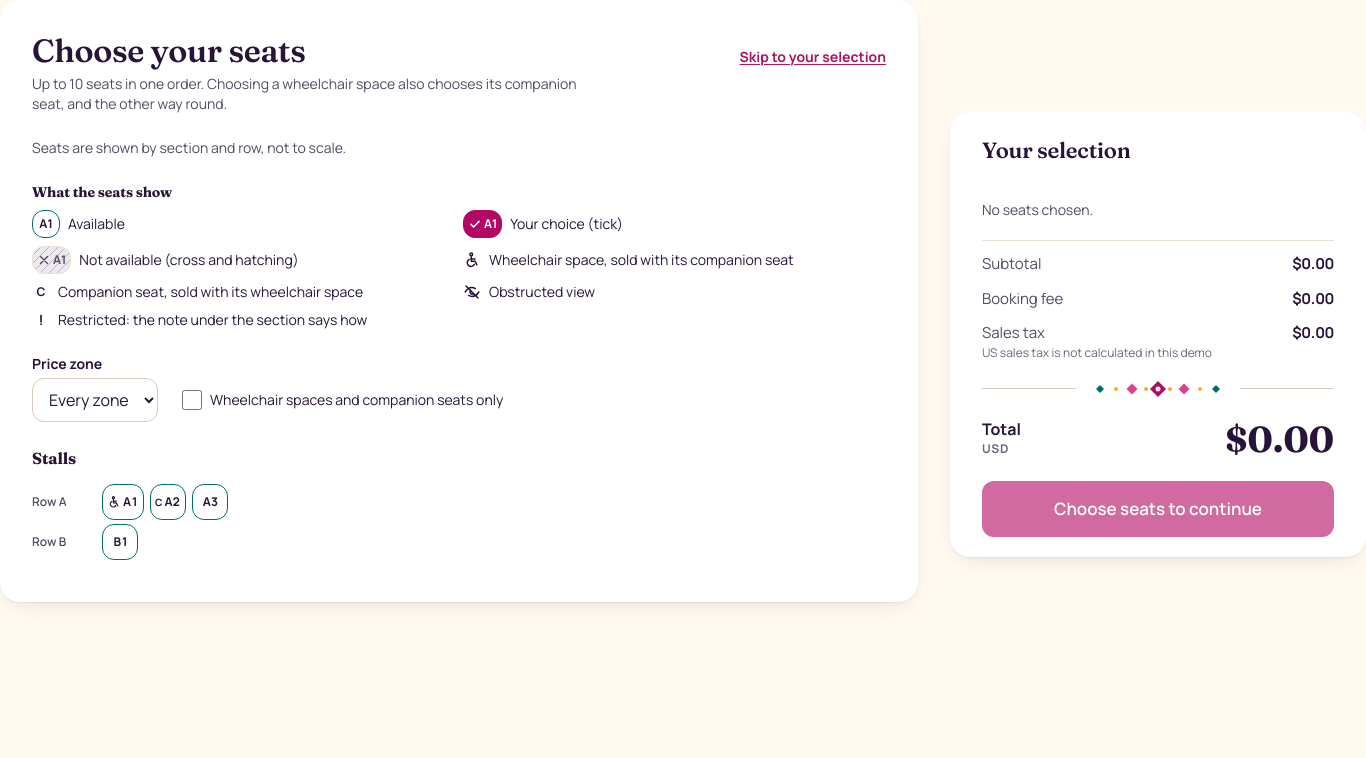
Test case: reserving, naming and paying › holds exactly the chosen seats, quotes them, and pays with one line per tier
Click the button "A1" at (123, 502), box [102,484,144,520]
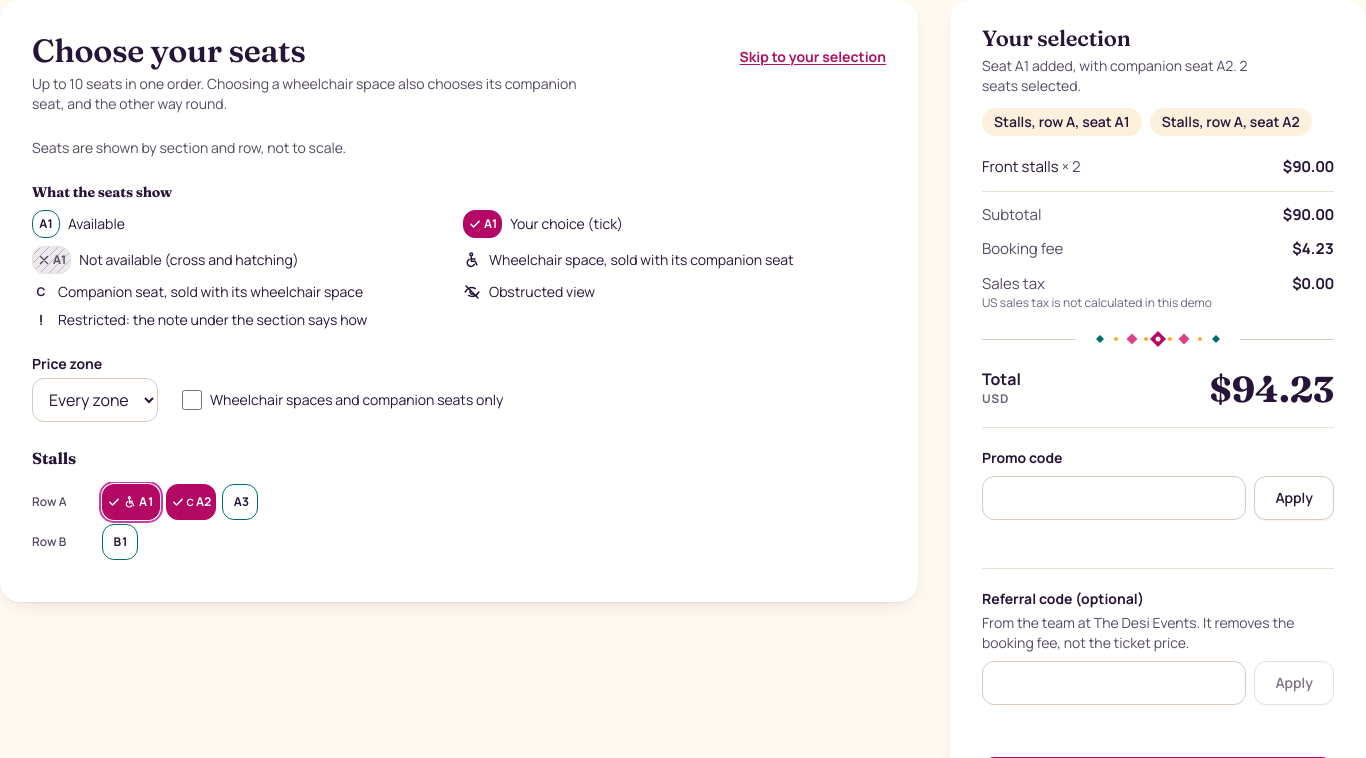
Click the button "B1" at (120, 542), box [102,524,138,560]
(page scrolled)
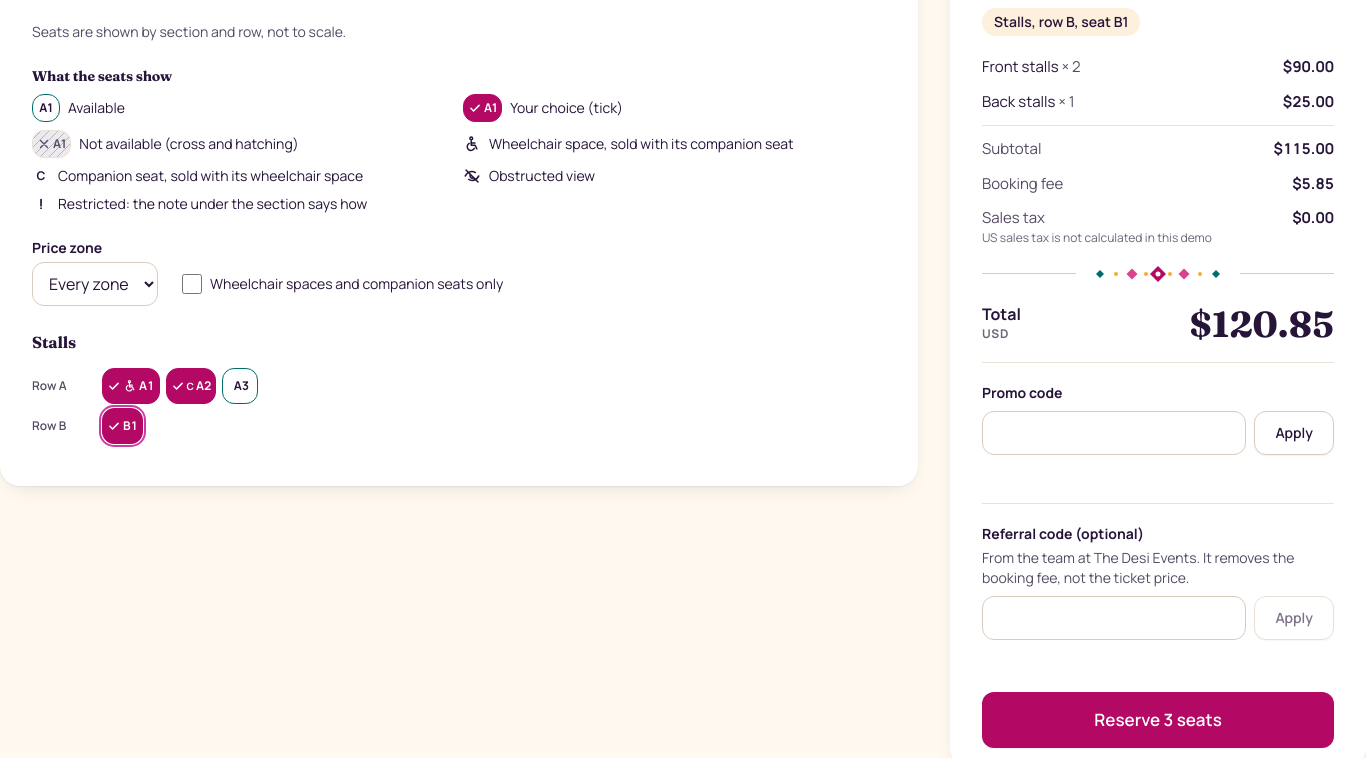
Click the button "Reserve 3 seats" at (1158, 720), box [982,692,1334,748]
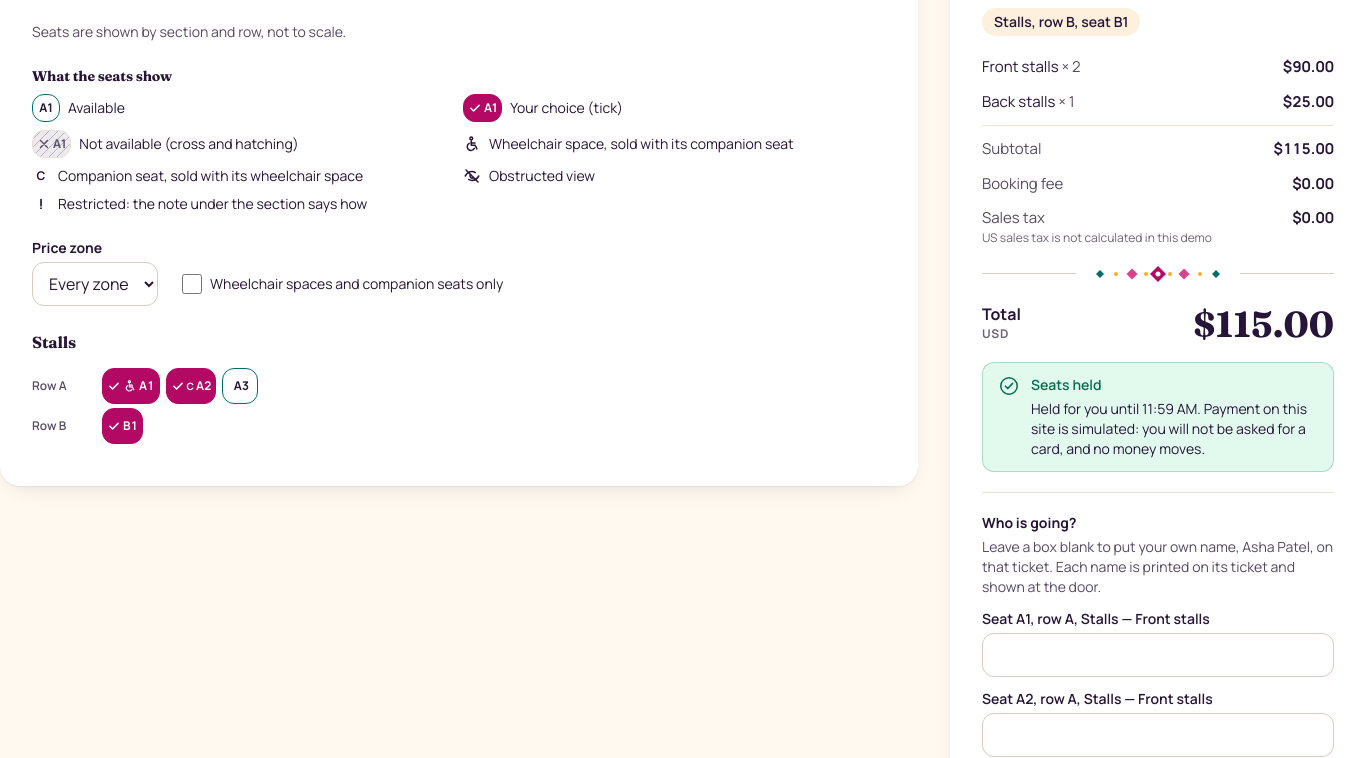
Now the text with test id "summary-total" reads "$115.00", box [1193,302,1334,346]
Type "  Ravi Shah " into the field labelled "Seat A1, row A, Stalls — Front stalls" at (1158, 654), box [982,632,1334,676]
(page scrolled)
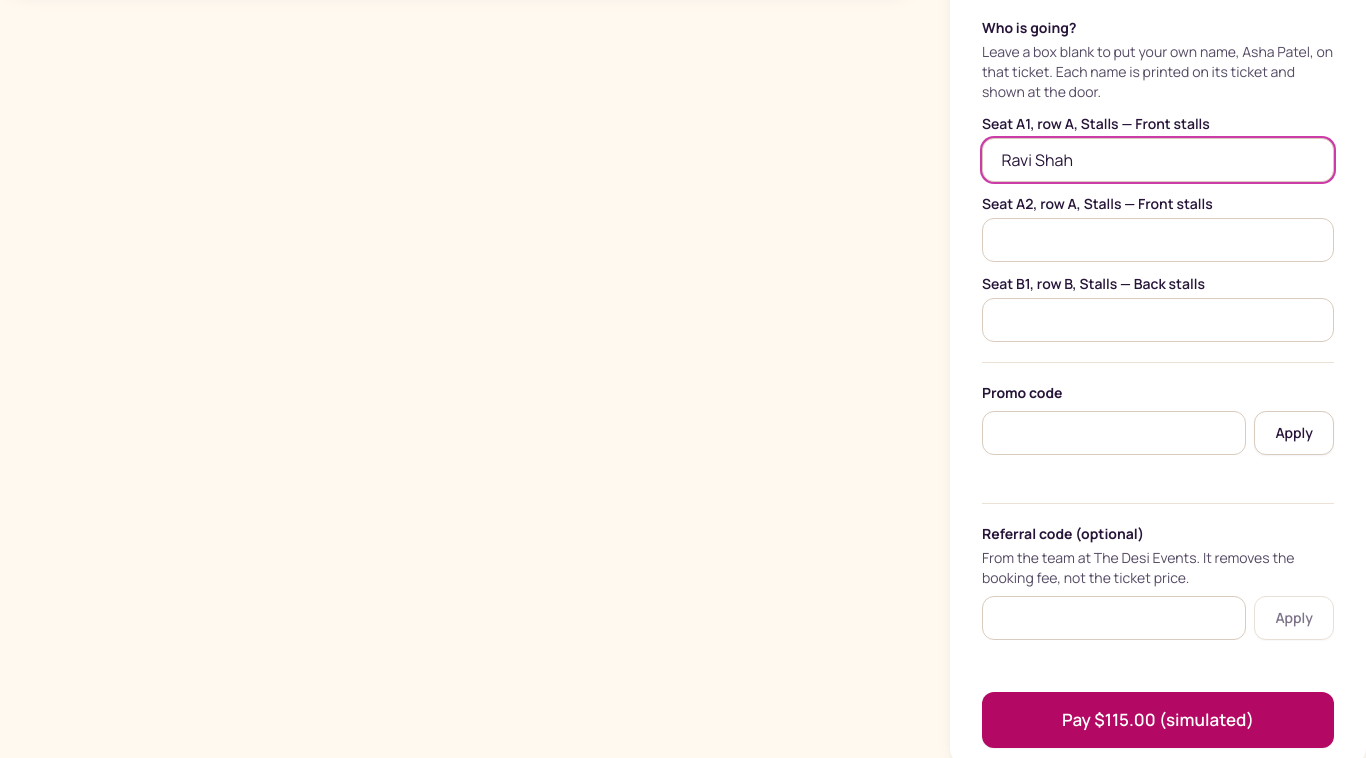
Click the button "Pay $115.00 (simulated)" at (1158, 720), box [982,692,1334,748]
(page scrolled)
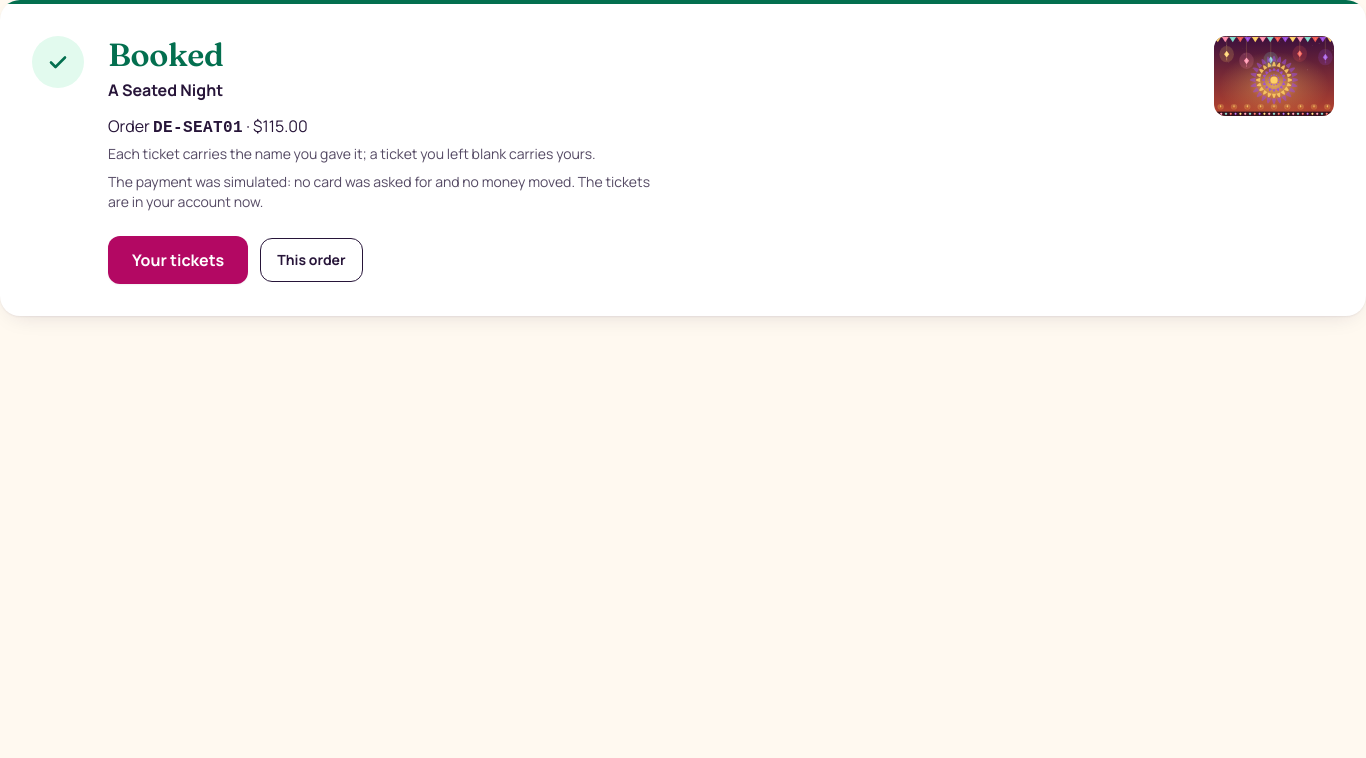
Now the heading "Booked" is shown, box [108,35,224,74]
